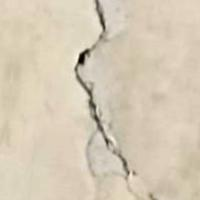crack: (70, 0, 145, 199)
